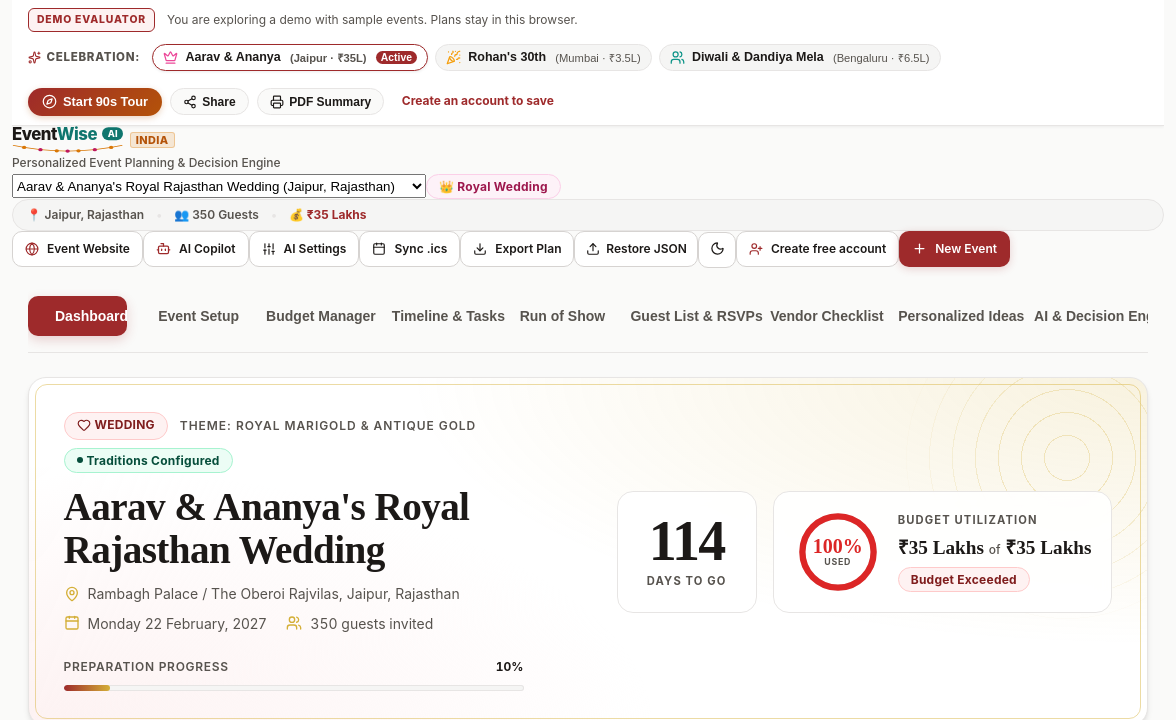
Test: EventWise AI UI & Workflow Integration Tests › switches to New Event creation mode and validates inputs
Click the button "New Event" at (955, 249), box [899, 231, 1010, 267]
(page scrolled)
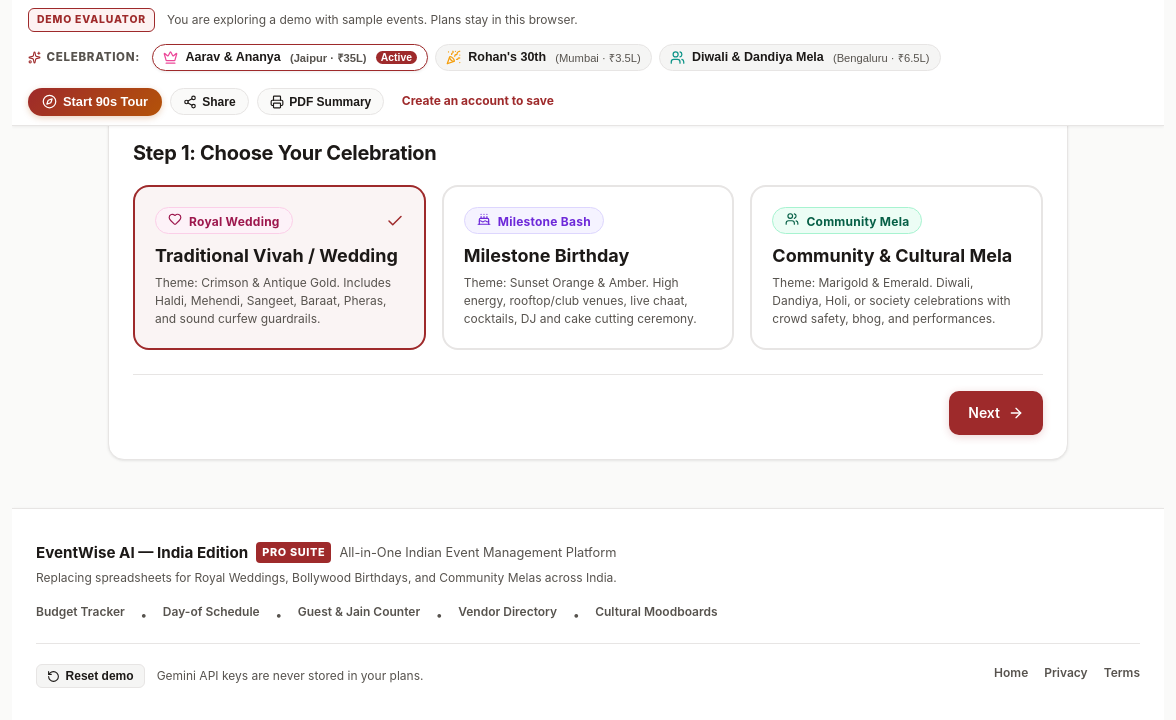
Expected: the text "Create & Personalize New Event" is shown, [133, 1, 405, 29]
Note: Advance to Step 2: Basics
Click the button "Next" at (996, 413), box [949, 391, 1043, 435]
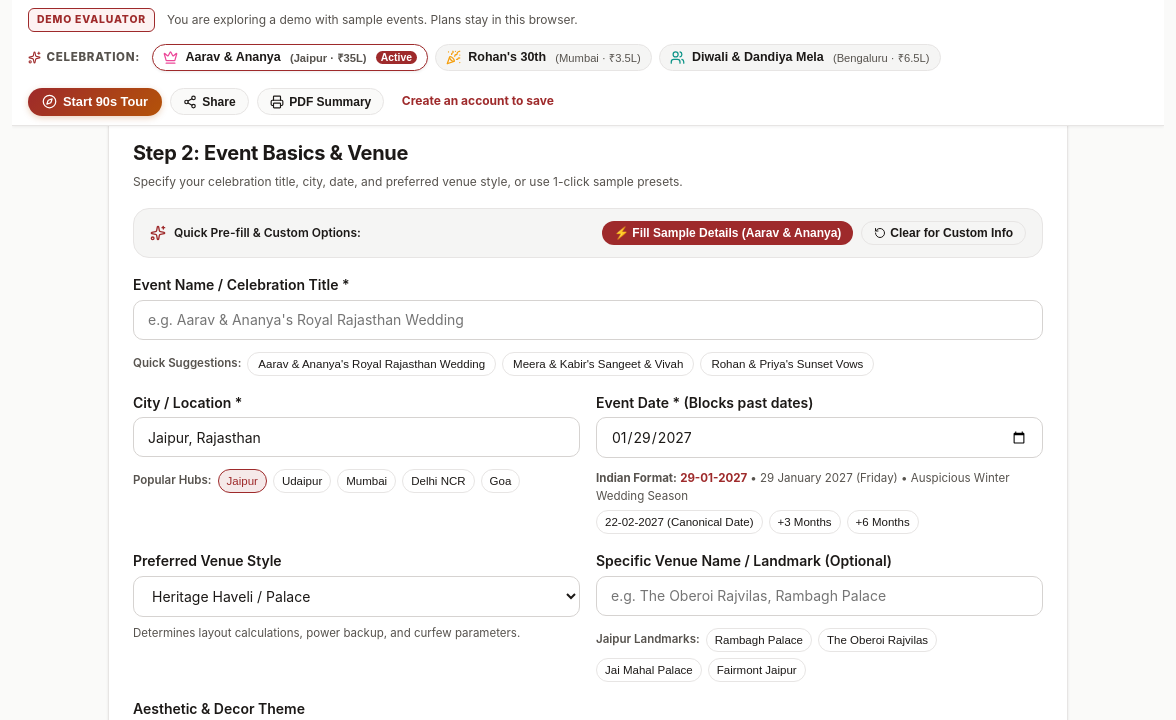
Note: Test validation on blur with empty city
Clear the field labelled "City / Location *" at (356, 437), box [133, 417, 580, 457]
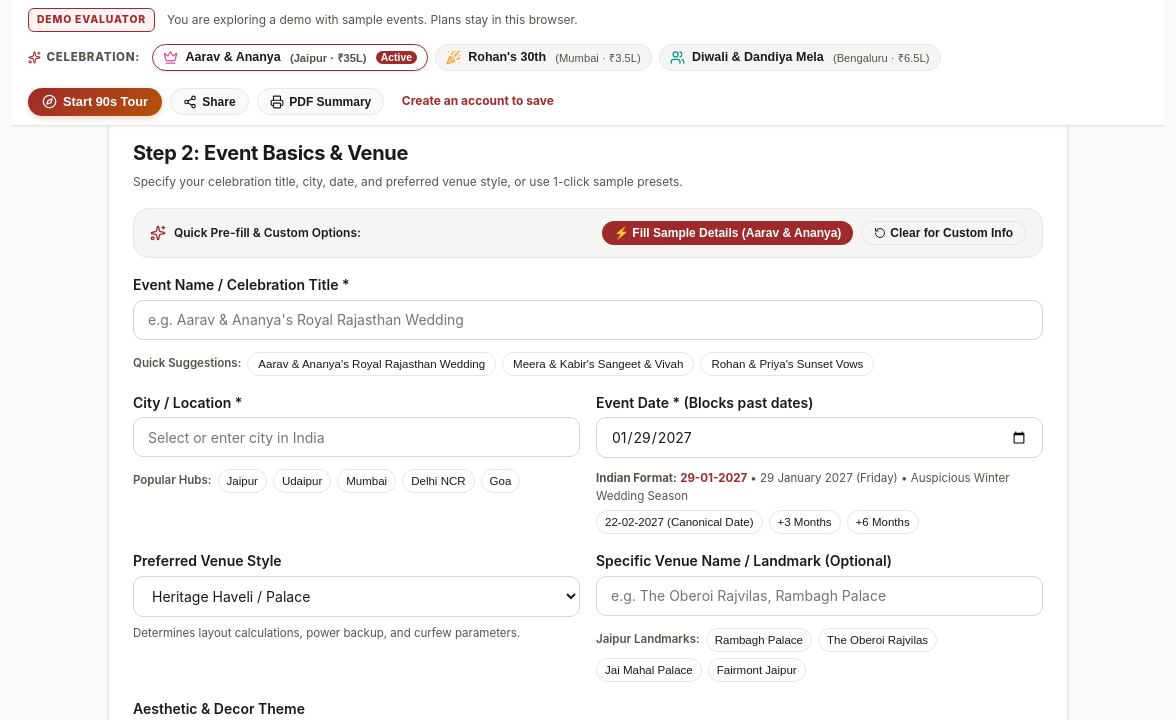
Leave the field labelled "City / Location *", box [133, 417, 580, 457]
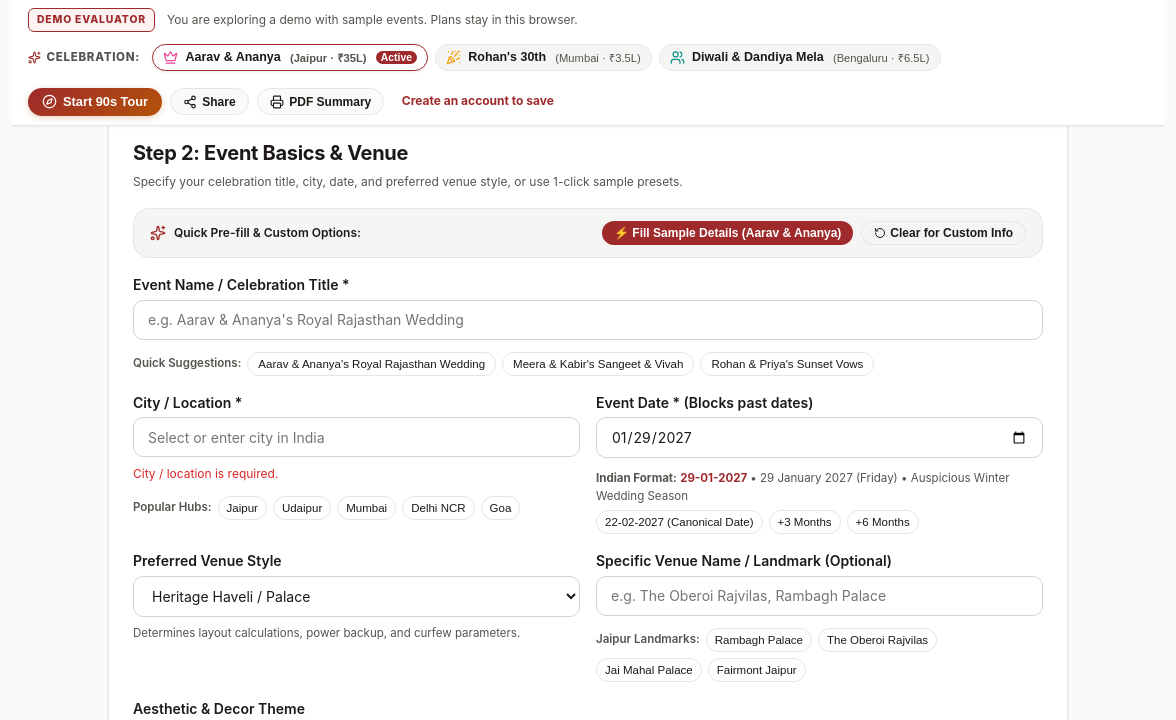
Expected: the message "City / location is required." is shown, [133, 466, 278, 481]
